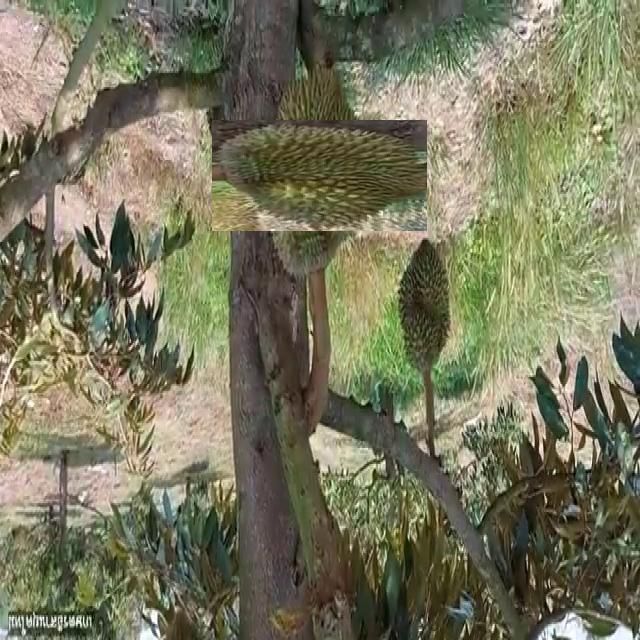durian: (238, 94, 401, 257), (396, 235, 455, 380)
